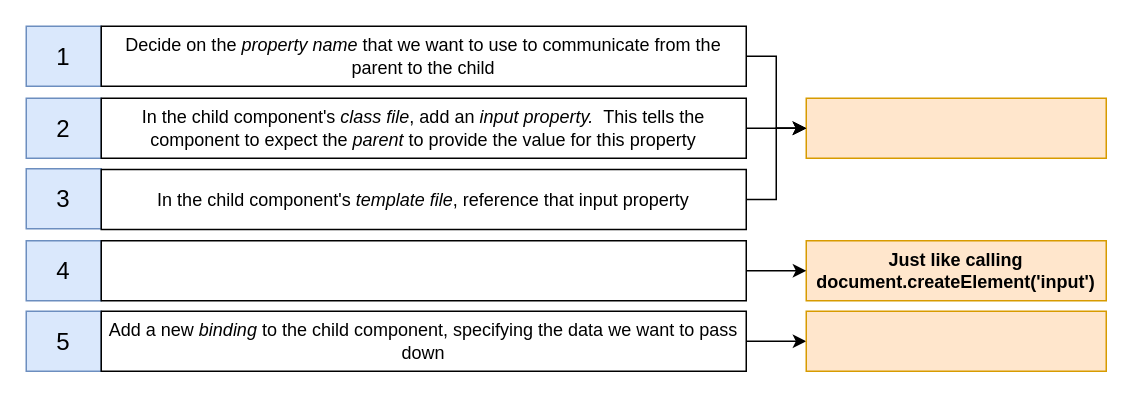
The diagram is 1133 pixels wide and 398 high, and some of its shapes have lost their labels. The centre of each missing label's shape, as x and y in pixels:
In the parent component template, find where we create the child component: pixel 423 270
Just like how an input uses the 'value' property internally: pixel 955 127
Just like input.value = 'asdf': pixel 955 340
